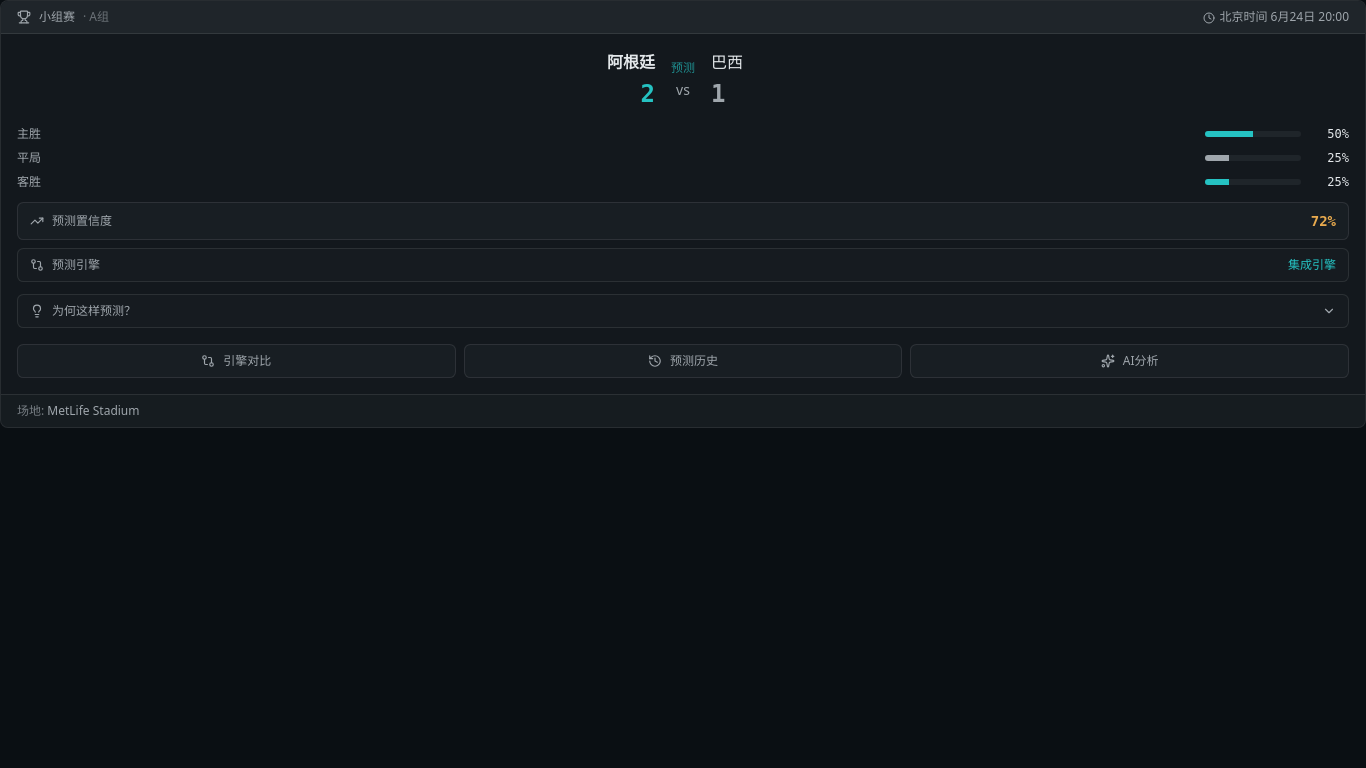
Test: MatchPredictionCard engine label › shows high-confidence engine selection details in the explanation panel
Click the button "为何这样预测？". click: (94, 311)
box: [17,294,1349,328]
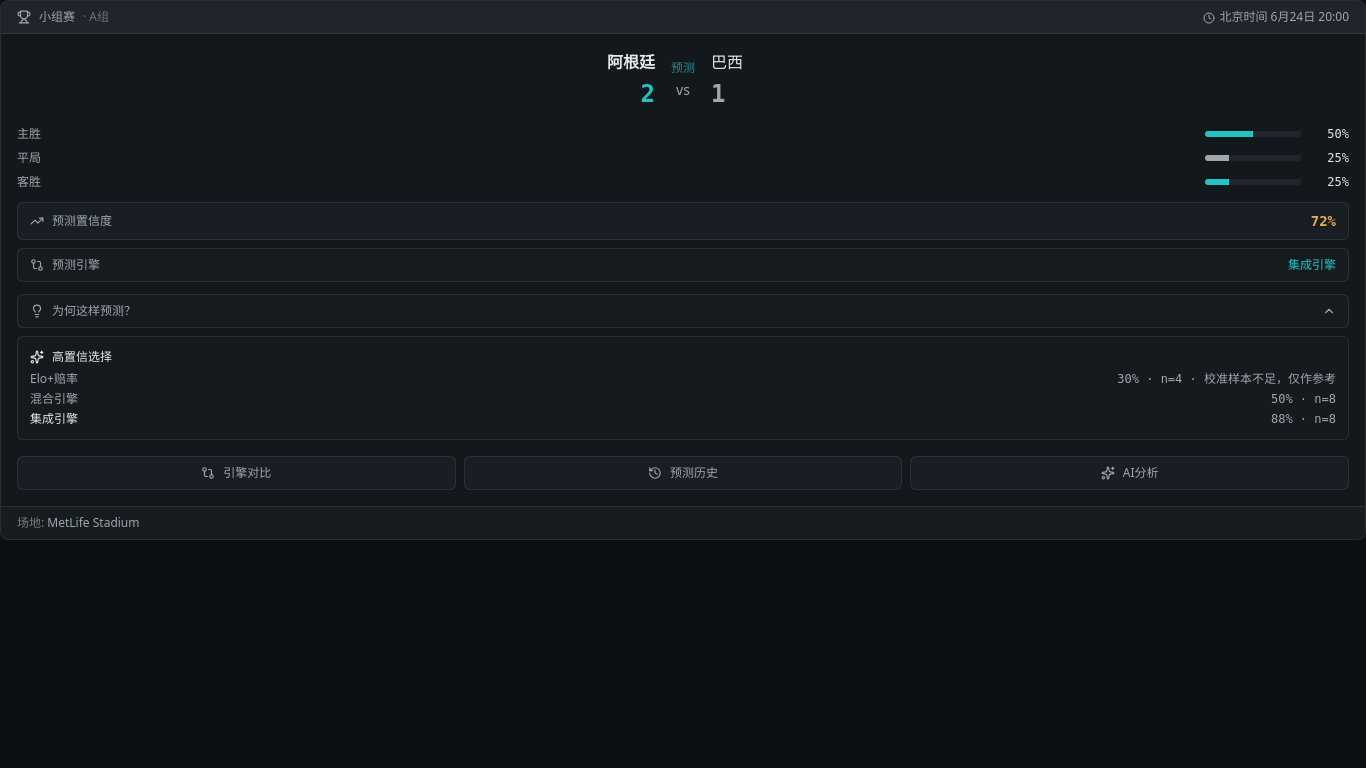
Result: the text "高置信选择" is shown at [52,349,112,365]
Result: the text "Elo+赔率" is shown at [30,371,78,387]
Result: the text "混合引擎" is shown at [30,391,78,407]
